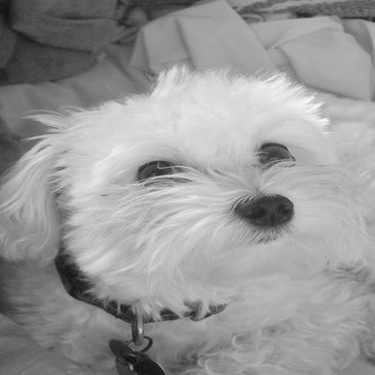dog: (1, 56, 373, 373)
